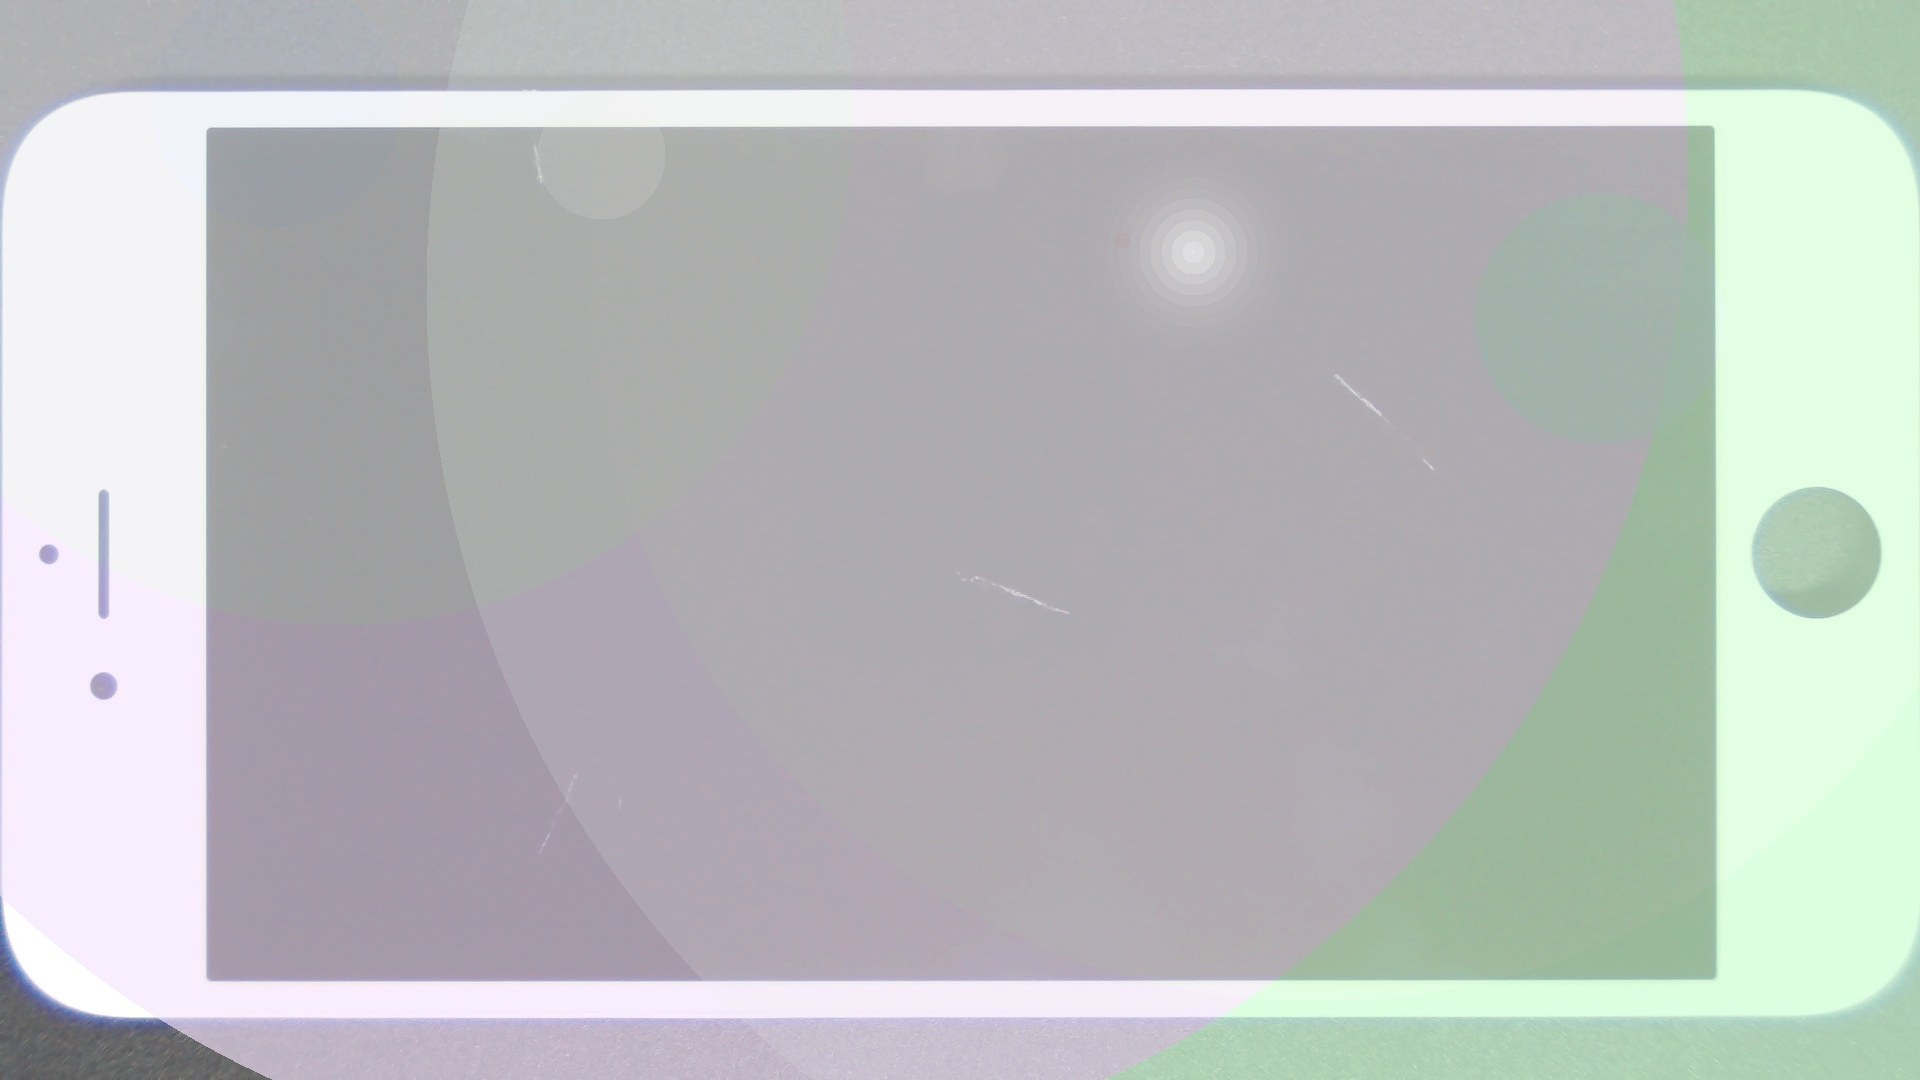oil: (712, 228, 1920, 686), (480, 284, 1435, 855), (669, 186, 1920, 559), (289, 386, 864, 1080), (269, 71, 802, 218)
